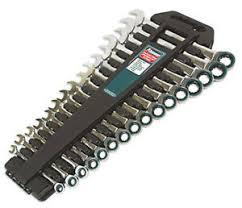wrench: (118, 16, 227, 81), (126, 8, 235, 71), (112, 26, 214, 89), (100, 33, 201, 94), (96, 43, 187, 100), (85, 53, 175, 108), (80, 61, 164, 117), (62, 79, 141, 133), (73, 71, 152, 125), (55, 88, 130, 142), (47, 98, 119, 151), (39, 108, 109, 160), (12, 132, 78, 187), (22, 124, 88, 179), (31, 117, 98, 169), (6, 143, 65, 193)
